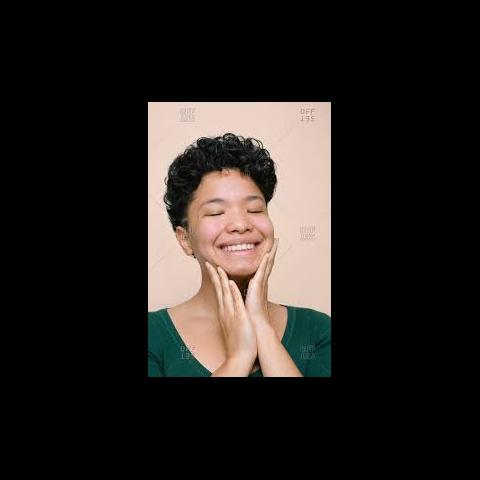closed: (192, 196, 274, 222)
